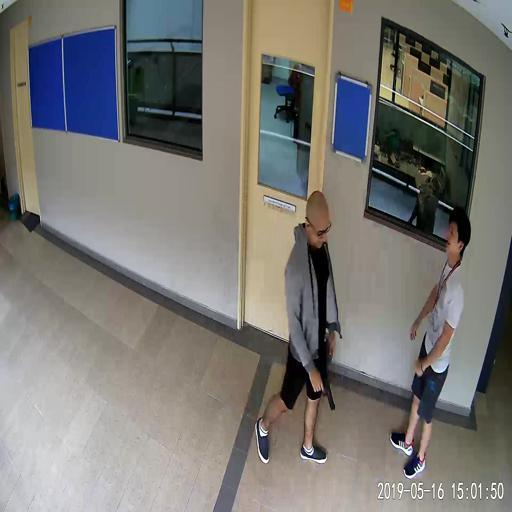pistol: (313, 377, 334, 411)
